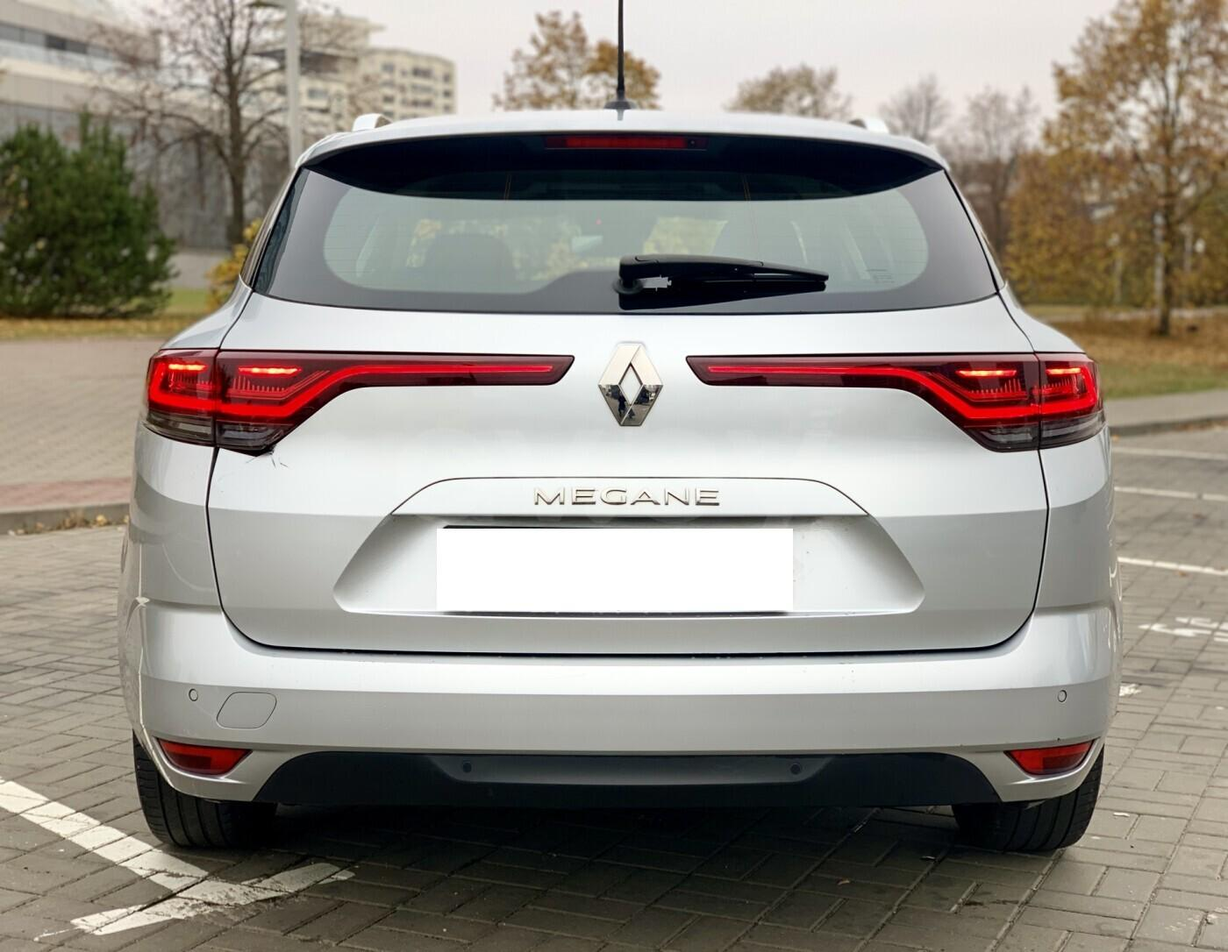Megane_2020: (119, 104, 1127, 859)
